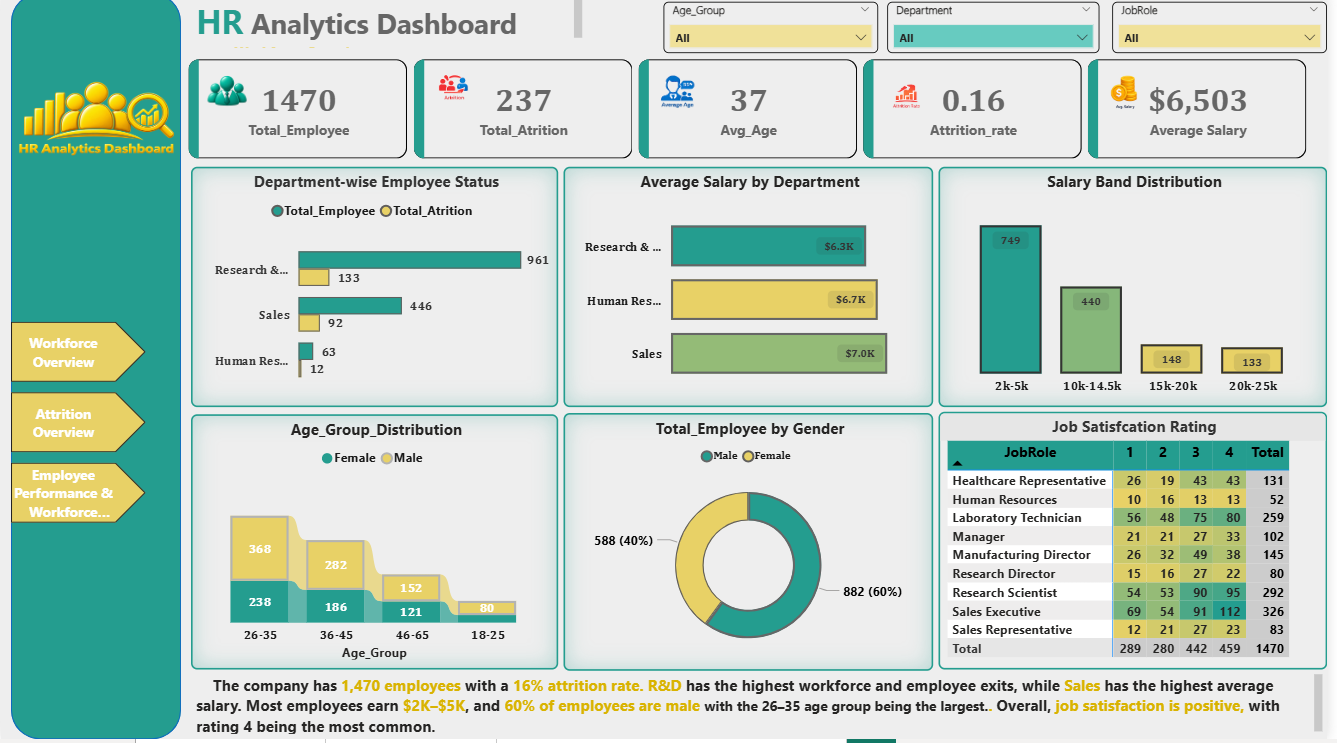

The page's visual inventory and layout, read from the dashboard file:
{"tool":"powerbi","page":{"name":"Workforce Overview","canvas":[1280,720],"ordinal":0},"visuals":[{"type":"shape","box":[9.7,0,164.1,720.2],"z":0},{"type":"textbox","box":[183.4,0,382.4,57.9],"z":1000},{"type":"cardVisual","fields":{"Data":["Measure_Table.Total_No_Employee","Measure_Table.Employee_Left","Measure_Table.Avg_Age","Measure_Table.Attrition_rate","Measure_Table.Average Salary"]},"box":[164.1,47.1,1116,130.3],"z":2000},{"type":"columnChart","title":"Age_Group_Distribution","fields":{"Category":["HR Analytics Data.Age_Group"],"Y":["Measure_Table.Total_No_Employee"],"Series":["HR Analytics Data.Gender"]},"box":[183.4,406.6,354.7,246.1],"z":3000},{"type":"clusteredBarChart","title":"Department-wise Employee Status","fields":{"Y":["Measure_Table.Total_No_Employee","Measure_Table.Employee_Left"],"Category":["HR Analytics Data.Department"]},"box":[183.4,167.7,354.7,231.6],"z":4000},{"type":"barChart","fields":{"Category":["HR Analytics Data.Department"],"Y":["Measure_Table.Average Salary"]},"box":[542.9,167.7,357.1,231.6],"z":5000},{"type":"clusteredColumnChart","title":" Salary Band Distribution","fields":{"Category":["HR Analytics Data.Salary Band"],"Y":["Measure_Table.Total_No_Employee"]},"box":[904.8,167.7,375.2,231.6],"z":6000},{"type":"donutChart","fields":{"Y":["Measure_Table.Total_No_Employee"],"Category":["HR Analytics Data.Gender"]},"box":[542.9,405.4,357.1,248.5],"z":7000},{"type":"pivotTable","title":"Job Satisfcation Rating","fields":{"Rows":["HR Analytics Data.JobRole"],"Columns":["HR Analytics Data.JobSatisfaction"],"Values":["Measure_Table.Total_No_Employee"]},"box":[904.8,404.2,375.2,248.5],"z":8000},{"type":"textbox","box":[183.4,652.7,1096.7,67.6],"z":9000},{"type":"slicer","fields":{"Values":["HR Analytics Data.Department"]},"box":[855.4,8.4,205.1,49.5],"z":10000},{"type":"slicer","fields":{"Values":["HR Analytics Data.Age_Group"]},"box":[639.4,8.4,207.5,49.5],"z":11000},{"type":"slicer","fields":{"Values":["HR Analytics Data.JobRole"]},"box":[1072.5,8.4,207.5,49.5],"z":12000},{"type":"pageNavigator","box":[9.7,317.3,130.3,195.4],"z":13000},{"type":"image","box":[627.3,66.4,59.1,54.3],"z":13001},{"type":"image","box":[4.8,9.7,173.7,222],"z":13002},{"type":"image","box":[195.4,66.4,45.8,55.5],"z":13003},{"type":"image","box":[844.5,74.8,60.3,45.8],"z":13004},{"type":"image","box":[415,66.4,45.8,45.8],"z":13005},{"type":"image","box":[1060.5,71.2,48.3,45.8],"z":13006}]}

Visuals, with their boxes in screenshot pixels (x1, y1, x2, y2), scaled from the page's 1280x720 canvas onto the 1337x743 screenshot:
shape: bbox=(10, 0, 182, 742)
textbox: bbox=(192, 0, 591, 60)
cardVisual - Measure_Table.Total_No_Employee x Measure_Table.Employee_Left: bbox=(171, 49, 1336, 183)
"Age_Group_Distribution" columnChart: bbox=(192, 420, 562, 674)
"Department-wise Employee Status" clusteredBarChart: bbox=(192, 173, 562, 412)
barChart - HR Analytics Data.Department x Measure_Table.Average Salary: bbox=(567, 173, 940, 412)
" Salary Band Distribution" clusteredColumnChart: bbox=(945, 173, 1336, 412)
donutChart - Measure_Table.Total_No_Employee x HR Analytics Data.Gender: bbox=(567, 418, 940, 675)
"Job Satisfcation Rating" pivotTable: bbox=(945, 417, 1336, 674)
textbox: bbox=(192, 674, 1336, 742)
slicer - HR Analytics Data.Department: bbox=(893, 9, 1108, 60)
slicer - HR Analytics Data.Age_Group: bbox=(668, 9, 885, 60)
slicer - HR Analytics Data.JobRole: bbox=(1120, 9, 1336, 60)
pageNavigator: bbox=(10, 327, 146, 529)
image: bbox=(655, 69, 717, 125)
image: bbox=(5, 10, 186, 239)
image: bbox=(204, 69, 252, 126)
image: bbox=(882, 77, 945, 124)
image: bbox=(433, 69, 481, 116)
image: bbox=(1108, 73, 1158, 121)
